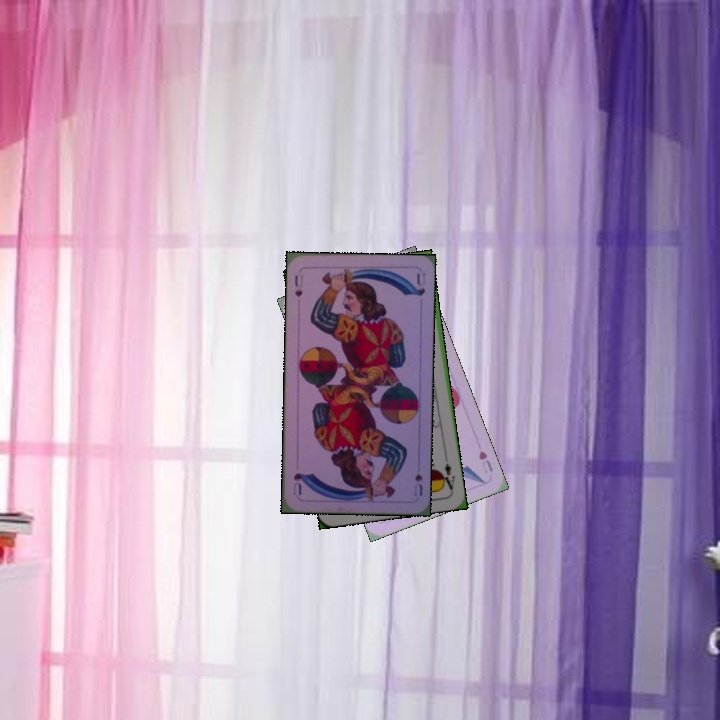EA: (437, 453, 457, 494)
HU: (474, 446, 495, 476)
SU: (410, 469, 425, 498), (291, 271, 306, 299)
